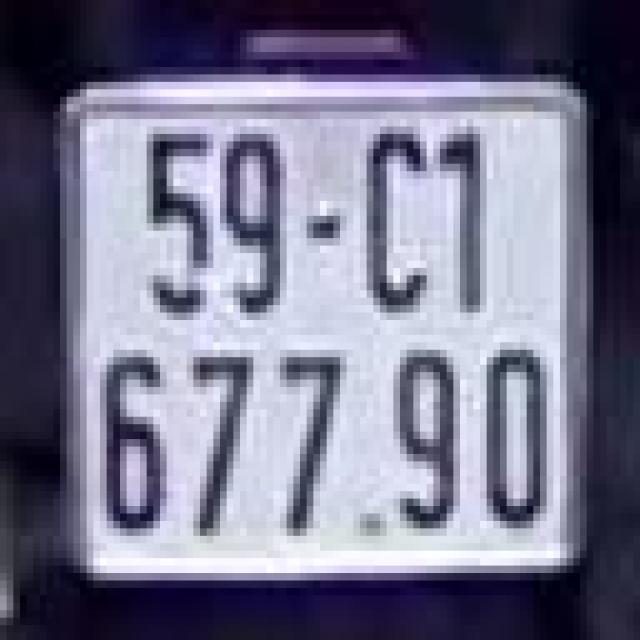0: (473, 328, 580, 544)
1: (430, 119, 510, 320)
5: (150, 112, 223, 335)
6: (93, 320, 187, 536)
7: (264, 335, 344, 551), (183, 335, 250, 558)
9: (380, 331, 473, 540), (214, 119, 294, 328)
C: (343, 97, 437, 320)
